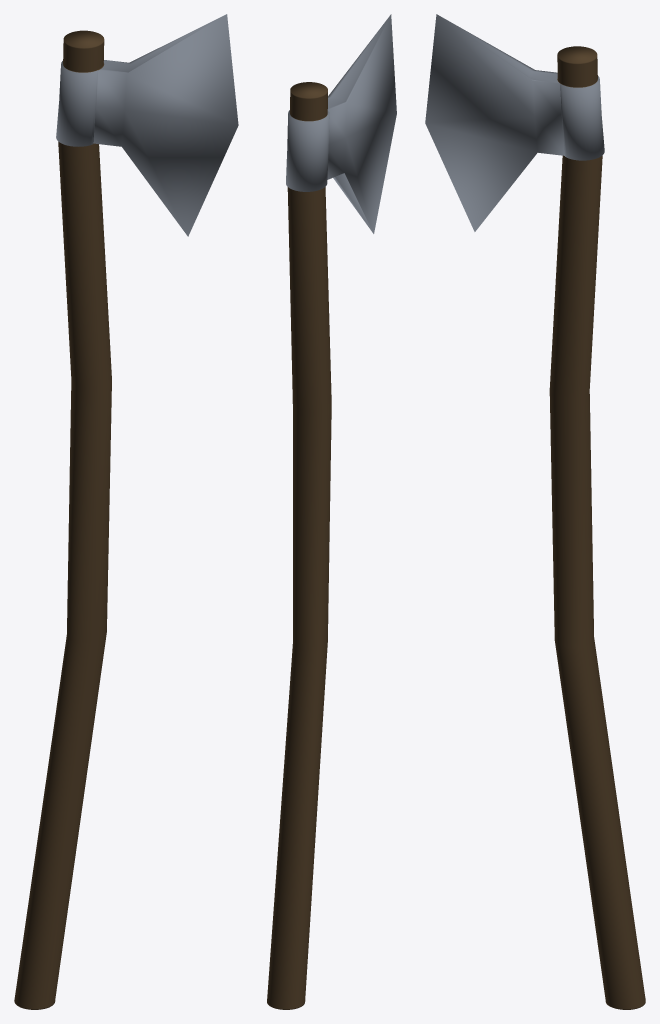
The model's file is Hacha_buena.fbx.
3 views of the same model, side by side, from view 1: azimuth 90°, elevation 25°; view 2: azimuth 150°, elevation 25°; view 3: azimuth 270°, elevation 25° (orthographic). The views are drawn at different scales.
Parts seen in each view (by area): view 1: Hacha.001; view 2: Hacha.001; view 3: Hacha.001.
Boxes of the visible parts, <box> form: Hacha.001: <box>14,14,238,1009</box>; Hacha.001: <box>267,14,396,1009</box>; Hacha.001: <box>425,14,645,1009</box>.
Size of the model in its own units: 3.8 by 93.39 by 19.06.
